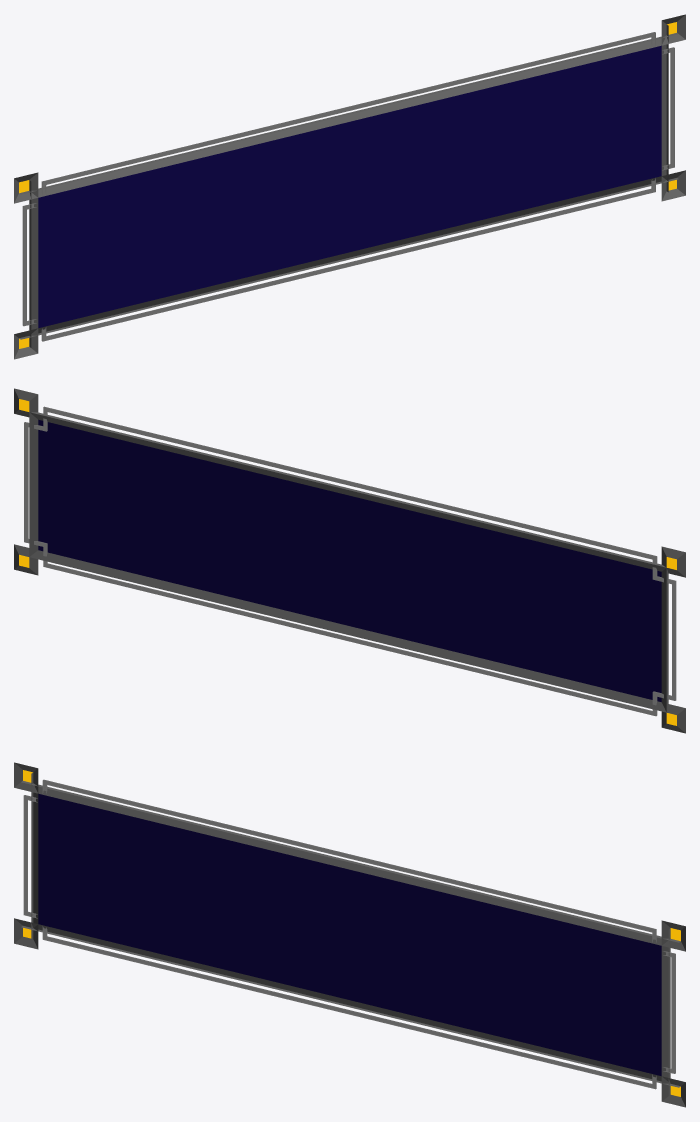
The model's file is content-title-background.glb.
3 renders of one model, top to bottom at view 1: azimuth 30°, elevation 25°; view 2: azimuth 150°, elevation 25°; view 3: azimuth 330°, elevation 25°, orthographic.
Parts seen in each view (by area): view 1: title-plate; view 2: title-plate; view 3: title-plate.
Part boxes in pixels (left/top/right/bottom): title-plate: left=14, top=14, right=685, bottom=359; title-plate: left=14, top=388, right=685, bottom=733; title-plate: left=14, top=762, right=685, bottom=1107.
Bounding box in the file's own units: 3.88 × 1 × 0.02.
Materials: 1 (1 with a texture image).
